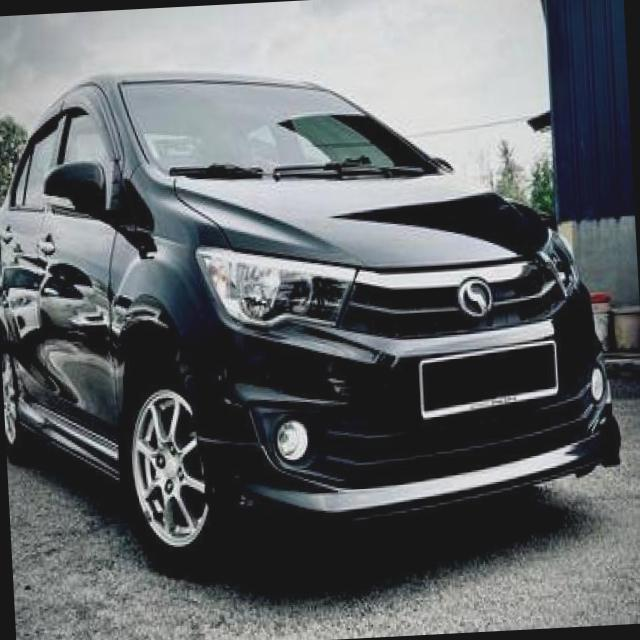PeroduaBezza: (0, 44, 627, 569)
